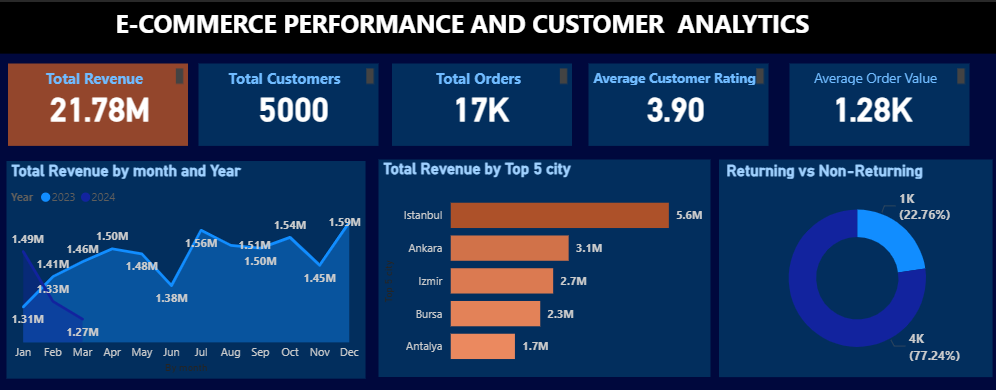

The page's visual inventory and layout, read from the dashboard file:
{"tool":"powerbi","page":{"name":"Page 1","canvas":[1280,720],"ordinal":0},"visuals":[{"type":"shape","box":[0,0,1280,56],"z":0},{"type":"shape","box":[205,66.7,195.2,89.5],"z":0,"group":"g1"},{"type":"shape","box":[411.5,66.7,195.2,89.5],"z":0,"group":"g2"},{"type":"shape","box":[621.3,66.7,195.2,89.5],"z":0,"group":"g3"},{"type":"shape","box":[833.8,66.7,195.2,89.5],"z":0,"group":"g4"},{"type":"shape","box":[1052.4,66.7,195.2,89.5],"z":0,"group":"g5"},{"type":"shape","box":[0,21.1,191.9,665.3],"z":1000},{"type":"card","fields":{"Values":["Sum(orders.Total_Amount)"]},"box":[173.4,90,260.2,48.8],"z":1000,"group":"g1"},{"type":"card","fields":{"Values":["Customers.Total customer"]},"box":[383.9,90,260.2,48.8],"z":1000,"group":"g2"},{"type":"card","fields":{"Values":["Customers.distinct_id"]},"box":[587.5,90,260.2,48.8],"z":1000,"group":"g3"},{"type":"card","fields":{"Values":["Avg(orders.Customer_Rating)"]},"box":[798.6,90,260.2,48.8],"z":1000,"group":"g4"},{"type":"card","fields":{"Values":["Customers.Average Order Value"]},"box":[1012,90,260.2,48.8],"z":1000,"group":"g5"},{"type":"textbox","box":[192,0,894,56],"z":2000},{"type":"textbox","box":[205,66.7,195.2,27.3],"z":2000,"group":"g1"},{"type":"textbox","box":[411.5,66.7,195.2,27.3],"z":2000,"group":"g2"},{"type":"textbox","box":[621.3,66.7,195.2,27.3],"z":2000,"group":"g3"},{"type":"textbox","box":[833.8,66.7,195.2,27.3],"z":2000,"group":"g4"},{"type":"textbox","box":[1052.4,66.7,195.2,27.3],"z":2000,"group":"g5"},{"type":"group","id":"g1","title":"Group 1","box":[173.4,66.7,260.2,89.5],"z":3000},{"type":"group","id":"g2","title":"Group 1","box":[383.9,66.7,260.2,89.5],"z":4000},{"type":"group","id":"g3","title":"Group 1","box":[587.5,66.7,260.2,89.5],"z":5000},{"type":"group","id":"g4","title":"Group 1","box":[798.6,66.7,260.2,89.5],"z":6000},{"type":"group","id":"g5","title":"Group 1","box":[1012,66.7,260.2,89.5],"z":7000},{"type":"shape","box":[204.1,172,389.3,236.2],"z":8000},{"type":"areaChart","fields":{"Y":["Customers.Total Sales"],"Category":["orders.month_short"],"Series":["orders.Year"]},"box":[204.1,172,389.3,234.3],"z":9000},{"type":"slicer","fields":{"Values":["Customers.City"]},"box":[0,566,190.3,71.6],"z":10000},{"type":"textbox","box":[0,512.4,78.1,34.2],"z":11000},{"type":"slicer","fields":{"Values":["orders.Product_Category"]},"box":[0,440.8,188.7,71.6],"z":12000},{"type":"textbox","box":[3.3,388.7,187.1,52],"z":13000},{"type":"slicer","fields":{"Values":["orders.Date.Variation.Date Hierarchy.Year","orders.Date.Variation.Date Hierarchy.Quarter","orders.Date.Variation.Date Hierarchy.Month","orders.Date.Variation.Date Hierarchy.Day"]},"box":[0,318.8,190.3,69.9],"z":14000},{"type":"textbox","box":[1.6,276.5,188.7,35.8],"z":15000},{"type":"textbox","box":[0,172.4,188.7,29.3],"z":16000},{"type":"slicer","fields":{"Values":["Parameter.Parameter"]},"box":[0,201.7,191.9,74.8],"z":17000},{"type":"shape","box":[606.7,170.8,360,235.8],"z":18000},{"type":"shape","box":[975.1,170.1,296.7,236.2],"z":19000},{"type":"barChart","fields":{"Y":["Customers.Total Sales"],"Category":["Customers.City"]},"box":[606.6,170.1,359.1,236.2],"z":20000},{"type":"shape","box":[203.3,439.2,388.7,252.1],"z":21000},{"type":"shape","box":[606.7,439.2,359.5,252.1],"z":22000},{"type":"lineClusteredColumnComboChart","title":"Customer Rating & Orders By Delivery Speed","fields":{"Category":["orders.Delivery days"],"Y":["Customers.Average customer rating"],"Y2":["Customers.Total Orders"]},"box":[606.7,440.8,359.5,252.1],"z":23000},{"type":"shape","box":[975.1,440.3,296.7,251.3],"z":24000},{"type":"donutChart","title":"Returning vs Non-Returning ","fields":{"Y":["Sum(returning_vs_unreturning.customers)"],"Series":["returning_vs_unreturning.customer_status"]},"box":[979.2,172.4,292.8,234.2],"z":25000},{"type":"image","box":[0,0,188.7,172.4],"z":26000},{"type":"lineStackedColumnComboChart","title":"Discount vs Non Discount","fields":{"Category":["customer_discounts.customer_group"],"Y":["Sum(customer_discounts.customers)"],"Y2":["Avg(customer_discounts.revenue_per_customer)"]},"box":[979.2,440.8,292.8,250.5],"z":27000},{"type":"columnChart","fields":{"Y":["Customers.Total Sales"],"Category":["orders.Product_Category"]},"box":[204.9,440.8,382.2,250.5],"z":28000}]}

Visuals, with their boxes in screenshot pixels (x1, y1, x2, y2):
shape: locate(184, 0, 866, 12)
shape: locate(293, 17, 397, 65)
shape: locate(403, 17, 507, 65)
shape: locate(515, 17, 619, 65)
shape: locate(628, 17, 733, 65)
shape: locate(745, 17, 849, 65)
shape: locate(184, 0, 286, 348)
card - Sum(orders.Total_Amount): locate(277, 30, 415, 56)
card - Customers.Total customer: locate(389, 30, 527, 56)
card - Customers.distinct_id: locate(497, 30, 636, 56)
card - Avg(orders.Customer_Rating): locate(610, 30, 748, 56)
card - Customers.Average Order Value: locate(723, 30, 862, 56)
textbox: locate(286, 0, 763, 12)
textbox: locate(293, 17, 397, 32)
textbox: locate(403, 17, 507, 32)
textbox: locate(515, 17, 619, 32)
textbox: locate(628, 17, 733, 32)
textbox: locate(745, 17, 849, 32)
"Group 1" group: locate(277, 17, 415, 65)
"Group 1" group: locate(389, 17, 527, 65)
"Group 1" group: locate(497, 17, 636, 65)
"Group 1" group: locate(610, 17, 748, 65)
"Group 1" group: locate(723, 17, 862, 65)
shape: locate(293, 73, 500, 199)
areaChart - Customers.Total Sales x orders.month_short: locate(293, 73, 500, 198)
slicer - Customers.City: locate(184, 283, 286, 322)
textbox: locate(184, 255, 226, 273)
slicer - orders.Product_Category: locate(184, 217, 285, 255)
textbox: locate(186, 189, 286, 217)
slicer - orders.Date.Variation.Date Hierarchy.Year x orders.Date.Variation.Date Hierarchy.Quarter: locate(184, 152, 286, 189)
textbox: locate(185, 129, 286, 148)
textbox: locate(184, 74, 285, 89)
slicer - Parameter.Parameter: locate(184, 89, 286, 129)
shape: locate(507, 73, 699, 199)
shape: locate(704, 72, 862, 198)
barChart - Customers.Total Sales x Customers.City: locate(507, 72, 699, 198)
shape: locate(292, 216, 500, 350)
shape: locate(507, 216, 699, 350)
"Customer Rating & Orders By Delivery Speed" lineClusteredColumnComboChart: locate(507, 217, 699, 351)
shape: locate(704, 216, 862, 350)
"Returning vs Non-Returning " donutChart: locate(706, 74, 862, 199)
image: locate(184, 0, 285, 74)
"Discount vs Non Discount" lineStackedColumnComboChart: locate(706, 217, 862, 350)
columnChart - Customers.Total Sales x orders.Product_Category: locate(293, 217, 497, 350)
